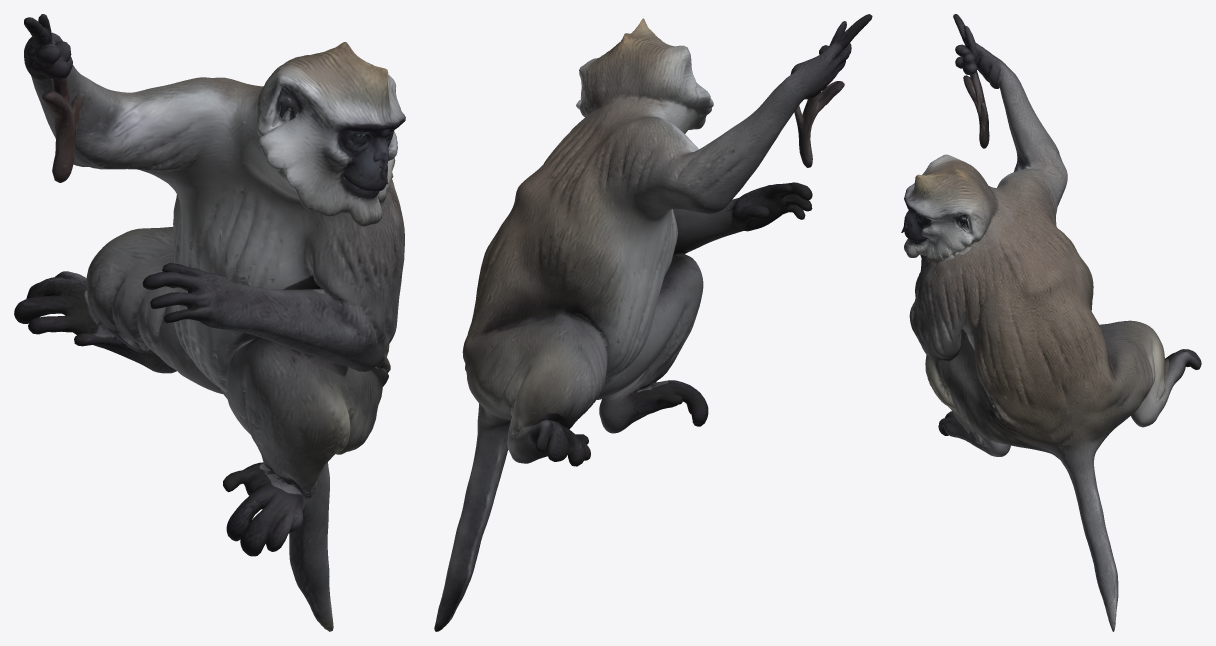
The model's file is sensen.glb.
3 renders of one model, left to right at view 1: azimuth 30°, elevation 25°; view 2: azimuth 150°, elevation 25°; view 3: azimuth 270°, elevation 25°, orthographic. The views are drawn at different scales.
Size of the model in its own units: 0.5643 by 1 by 0.5551.
Materials: 1 (1 with a texture image).
